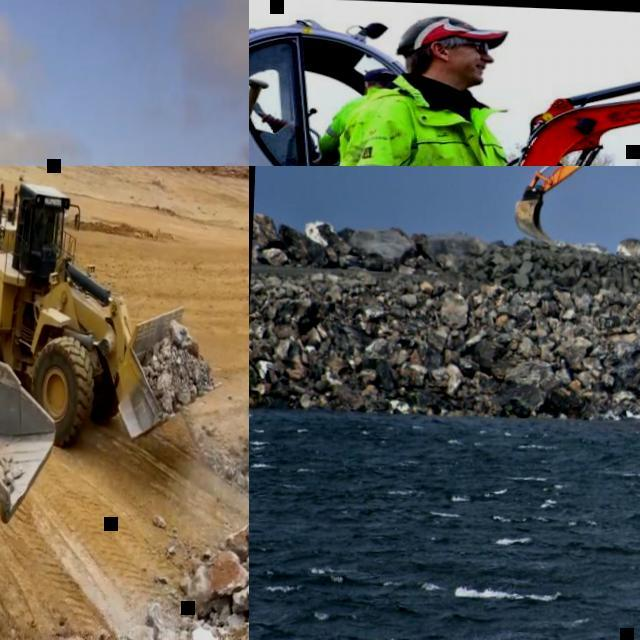vest: (331, 82, 525, 166), (332, 87, 408, 161)
